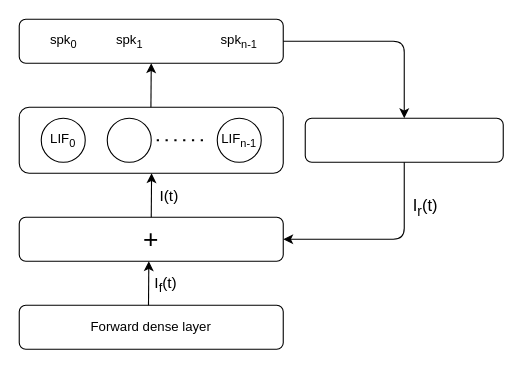
The diagram is 523 pixels wide and 369 high, and some of its shapes have lost their labels. Here are the shapes that lost their labels. From the top down, the centre of each, then its label:
At [128,139]: "LIF 1".
At [403,139]: "Recurrent dense layer".
